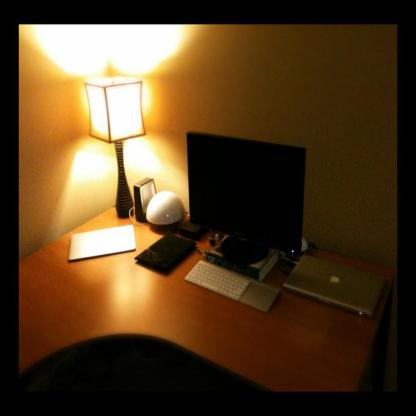board: (281, 247, 388, 316)
